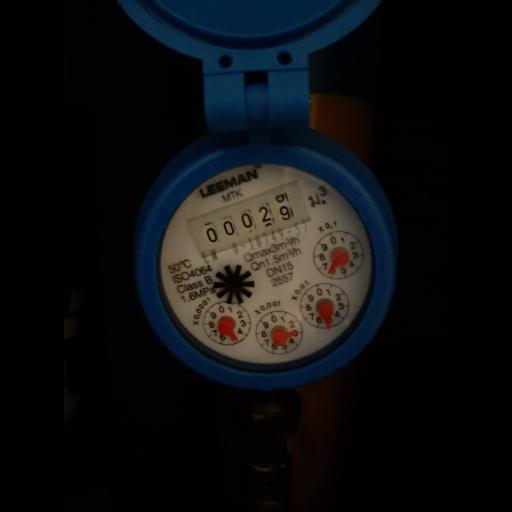0: (236, 207, 259, 235), (219, 215, 239, 241), (202, 221, 221, 246)
2: (255, 200, 276, 228)
9: (271, 191, 296, 224)
border_water_meter_number: (186, 181, 312, 260)
